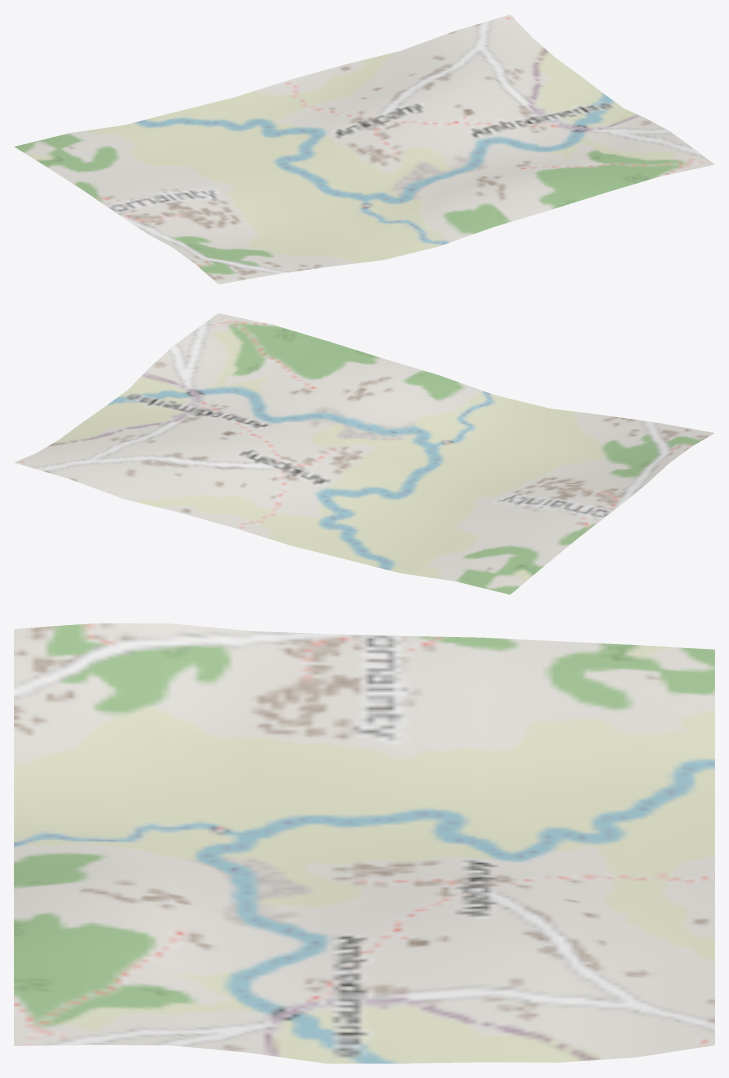
Rendered from ground_4_5.glb.
3 views of the same model, one above another, from view 1: azimuth 30°, elevation 25°; view 2: azimuth 150°, elevation 25°; view 3: azimuth 270°, elevation 25° (orthographic). The views are drawn at different scales.
Parts seen in each view (by area): view 1: ground_4_5; view 2: ground_4_5; view 3: ground_4_5.
Part boxes in pixels (left/top/right/bottom): ground_4_5: left=14, top=14, right=714, bottom=284; ground_4_5: left=14, top=313, right=714, bottom=594; ground_4_5: left=14, top=623, right=714, bottom=1063.
Size of the model in its own units: 1204 by 48.48 by 860.
Materials: 1 (1 with a texture image).
